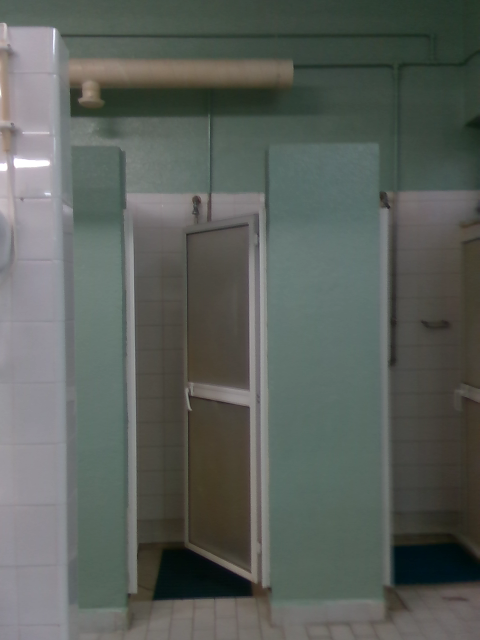closed: (125, 208, 269, 590)
